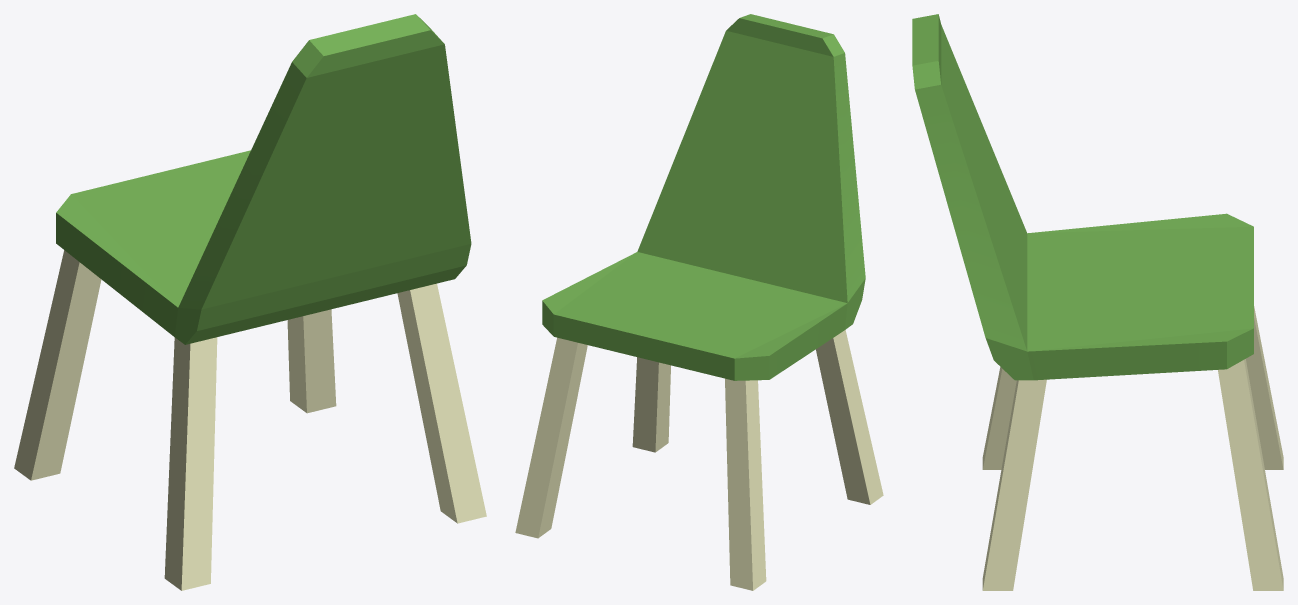
Rendered from chair.fbx.
3 renders of one model, left to right at view 1: azimuth 30°, elevation 25°; view 2: azimuth 150°, elevation 25°; view 3: azimuth 270°, elevation 25°, orthographic. The views are drawn at different scales.
Parts seen in each view (by area): view 1: chair; view 2: chair; view 3: chair.
Boxes of the visible parts, left/top/right/bottom form: chair: left=14, top=14, right=486, bottom=590; chair: left=515, top=14, right=883, bottom=590; chair: left=912, top=14, right=1283, bottom=590.
Bounding box in the file's own units: 28.89 × 49.16 × 33.87.
